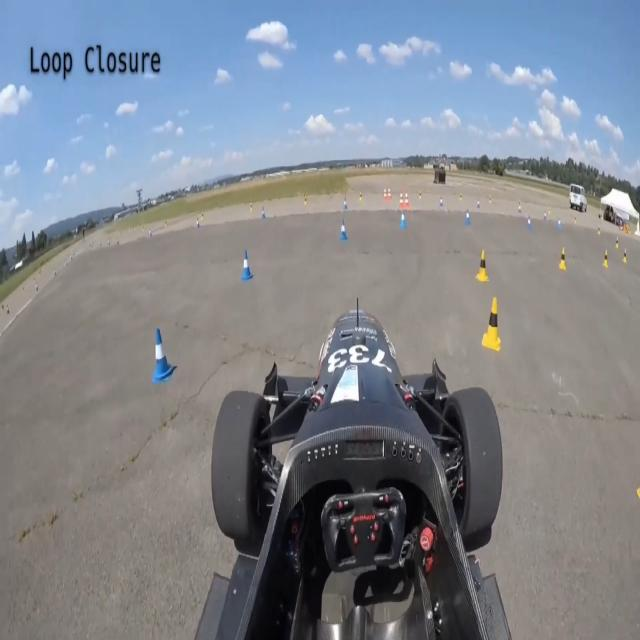blue_cone: (152, 327, 174, 385), (242, 248, 254, 281), (340, 217, 348, 242)
large_orange_cone: (404, 190, 410, 209), (399, 190, 404, 208)
yellow_cone: (482, 297, 502, 352), (476, 249, 489, 282), (559, 246, 567, 271), (603, 249, 609, 267)
